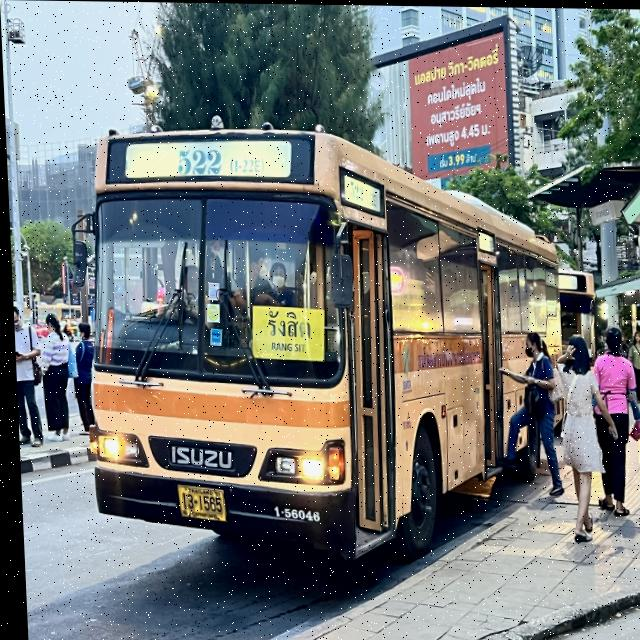BMTA-bus: (64, 96, 575, 577)
Bus Line Number: (169, 137, 266, 180)
Bus Side Number: (266, 500, 319, 527)
Destination Sign: (247, 306, 322, 360)
